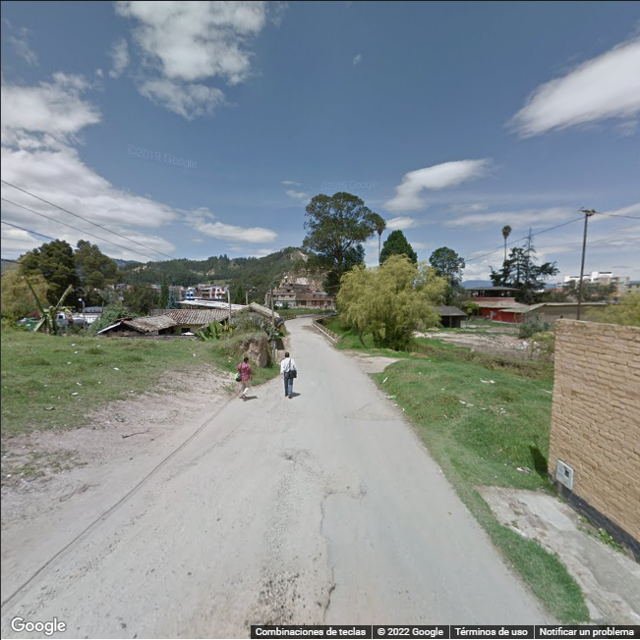D00: (319, 481, 330, 540), (325, 560, 332, 624)
